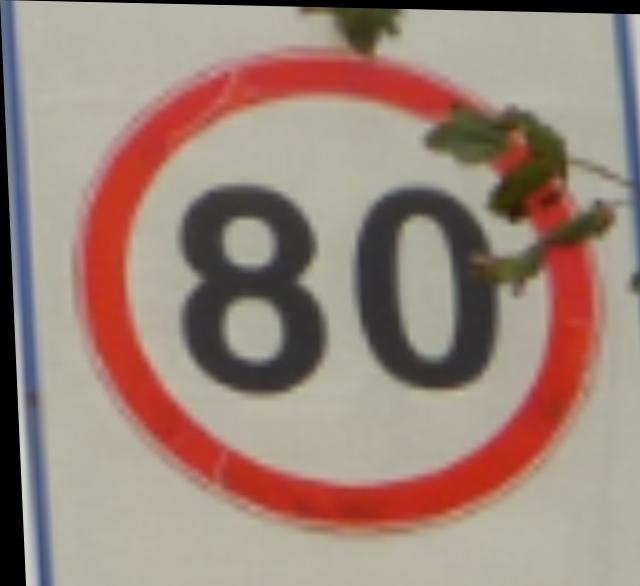limit80: (53, 32, 617, 551)
